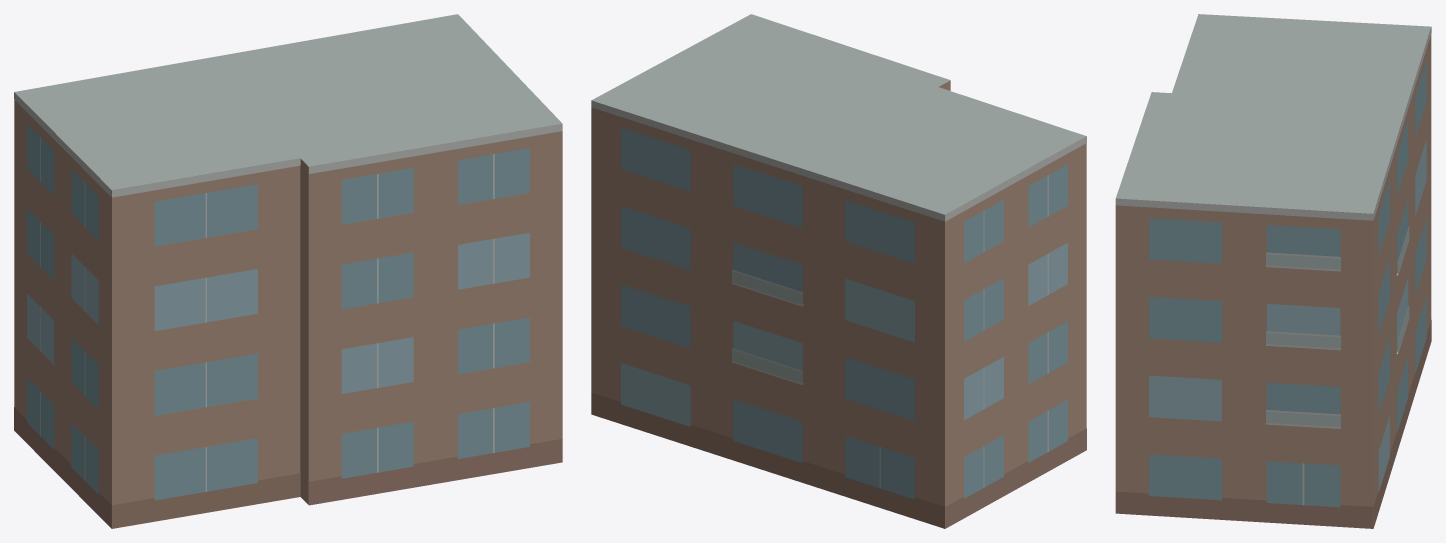
File: survey-upis-32961832.glb
The picture shows the model from 3 angles, left to right: view 1: azimuth 30°, elevation 25°; view 2: azimuth 150°, elevation 25°; view 3: azimuth 270°, elevation 25°; orthographic projection. The views are drawn at different scales.
Parts seen in each view (by area): view 1: survey-upis-32961832.tmp; view 2: survey-upis-32961832.tmp; view 3: survey-upis-32961832.tmp.
Boxes of the visible parts, <box> form: survey-upis-32961832.tmp: <box>14,14,562,528</box>; survey-upis-32961832.tmp: <box>591,14,1086,528</box>; survey-upis-32961832.tmp: <box>1115,14,1431,528</box>.
Size of the model in its own units: 15.25 by 11.2 by 10.18.
